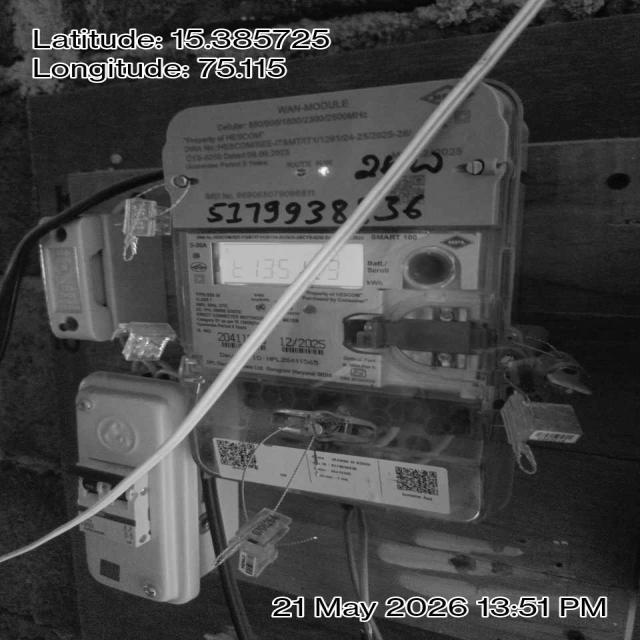meter: (156, 85, 518, 394)
